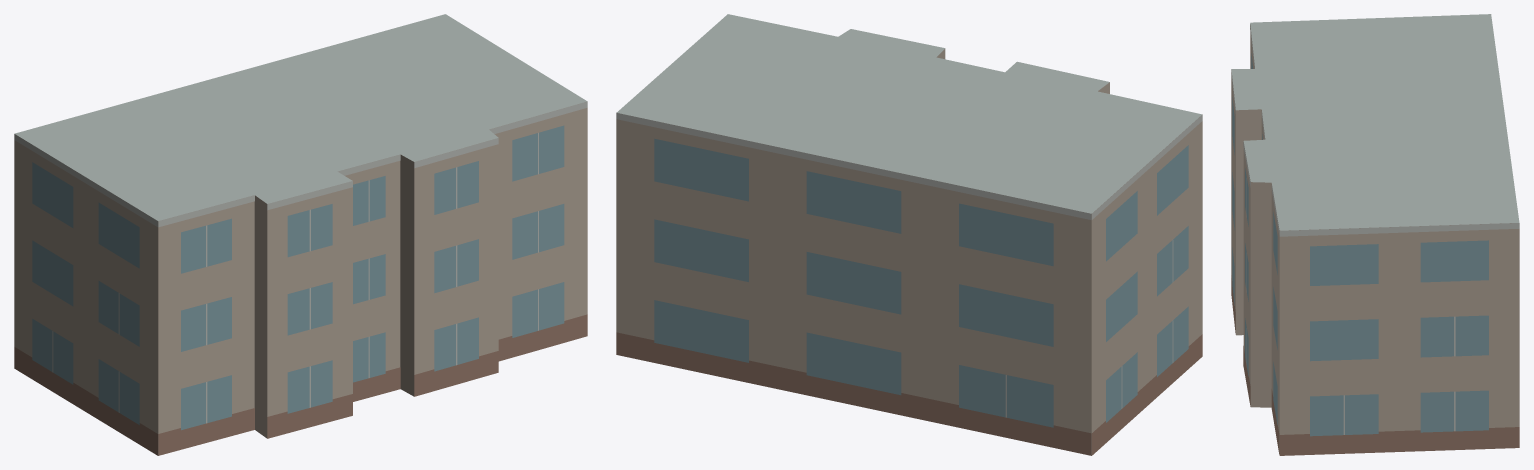
File: survey-upis-32990541.glb
The picture shows the model from 3 angles, left to right: view 1: azimuth 30°, elevation 25°; view 2: azimuth 150°, elevation 25°; view 3: azimuth 270°, elevation 25°; orthographic projection. The views are drawn at different scales.
Parts seen in each view (by area): view 1: survey-upis-32990541.tmp; view 2: survey-upis-32990541.tmp; view 3: survey-upis-32990541.tmp.
Boxes of the visible parts, x1=… form: survey-upis-32990541.tmp: x1=14, y1=14, x2=587, y2=455; survey-upis-32990541.tmp: x1=616, y1=14, x2=1202, y2=455; survey-upis-32990541.tmp: x1=1231, y1=14, x2=1519, y2=455.
Size of the model in its own units: 18.9 by 9.15 by 10.62.
